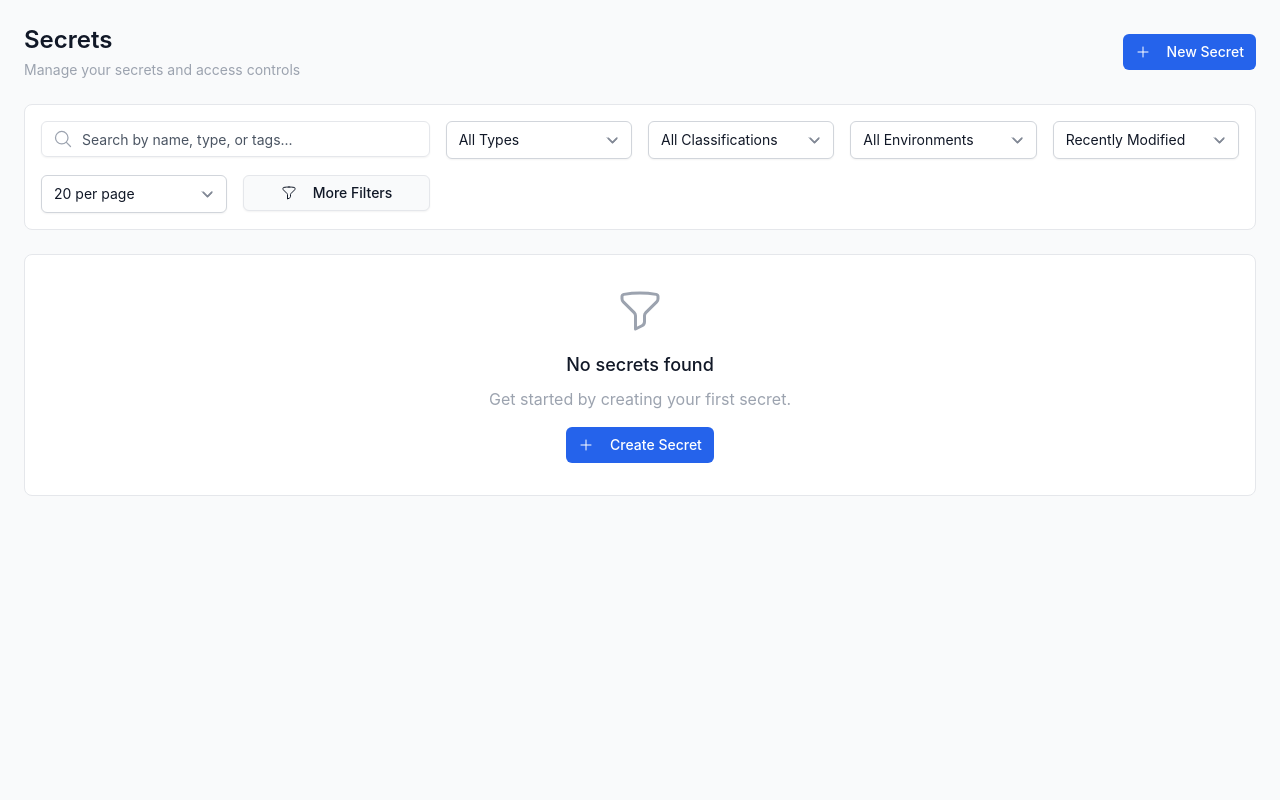
Scenario: SecretsListPage — create secret: project/environment defaulting › defaults the create-form project and environment to the first available once loaded
Click the button with test id "create-secret-button".
click(1189, 52)  # box [1123, 34, 1256, 70]
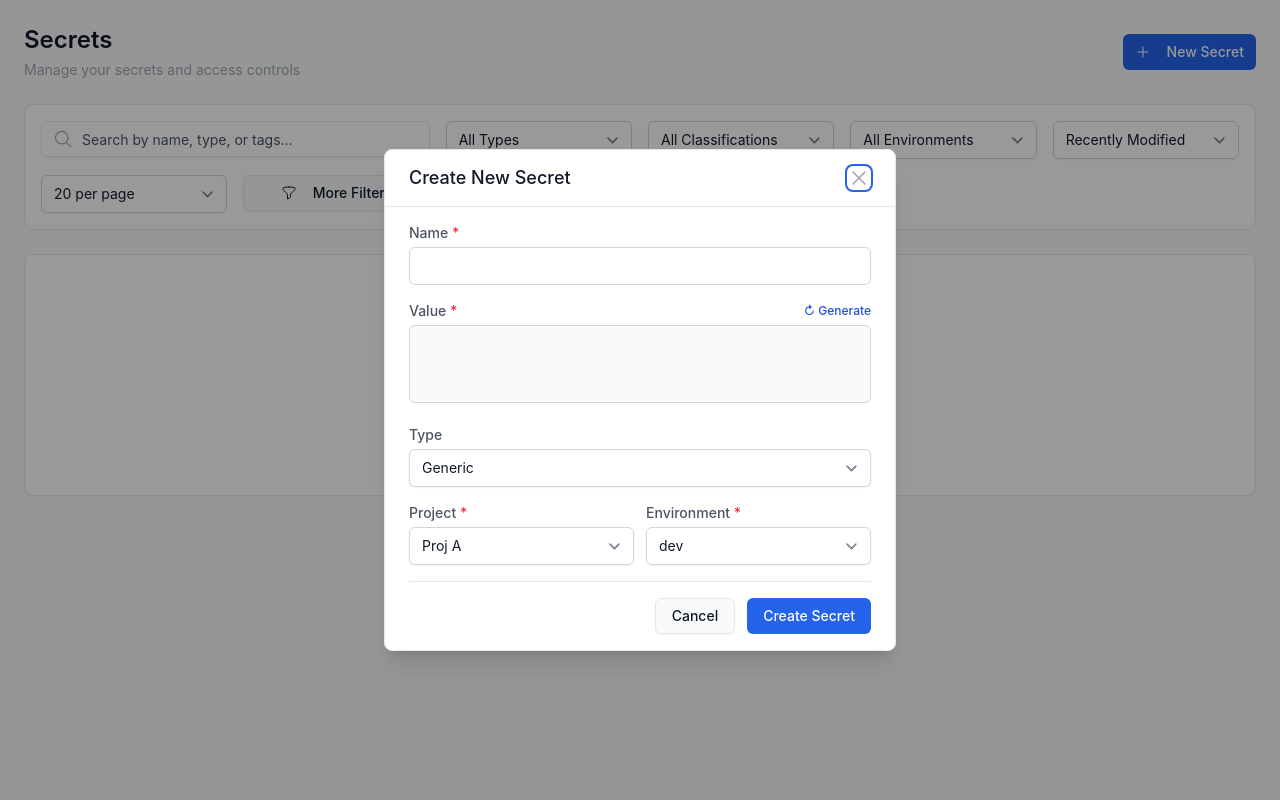
Expected: the dropdown labelled "Project *" shows "Proj A", [409, 527, 634, 565]
Expected: the dropdown labelled "Environment *" shows "dev", [646, 527, 871, 565]
